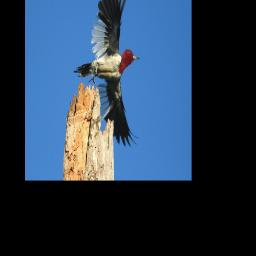Woodpecker: (73, 0, 140, 148)
